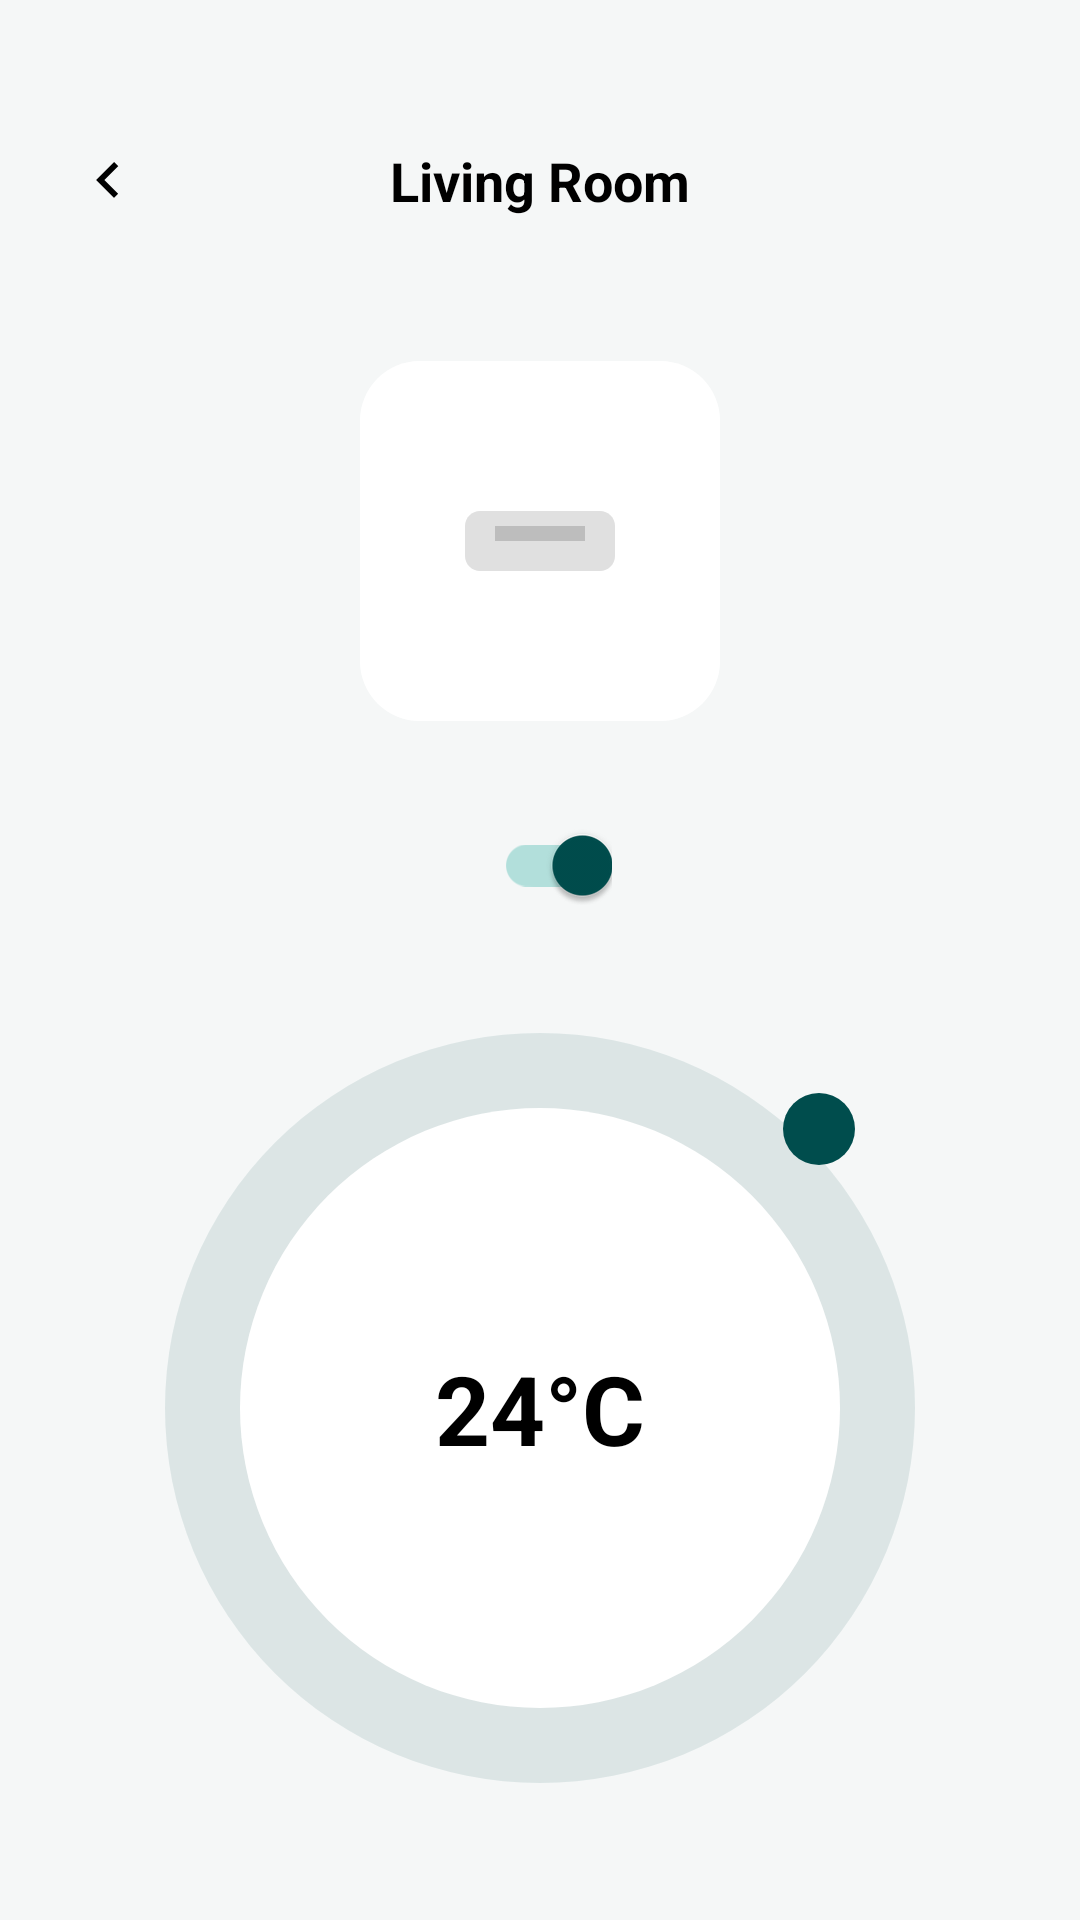

Where icons sit on this 1080px x 1920px app screen, as box(x1, y1, x2, y2):
arrow back: box(96, 162, 118, 198)
